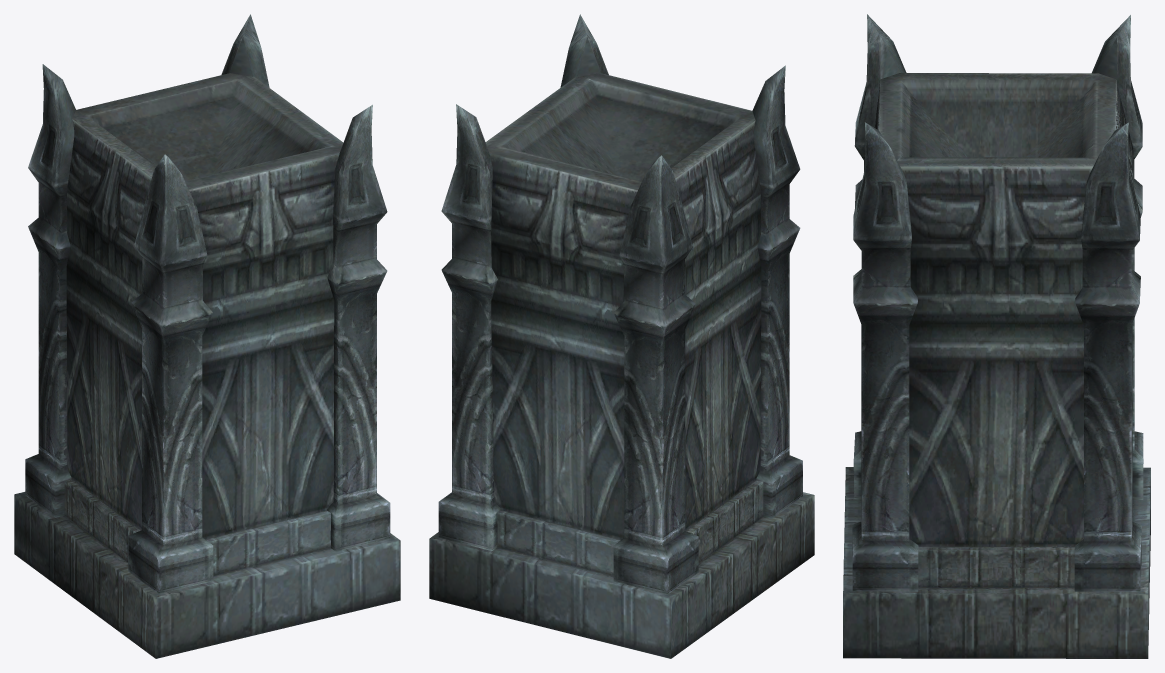
The model's file is demon_brazier_fire.glb.
The picture shows the model from 3 angles, left to right: view 1: azimuth 30°, elevation 25°; view 2: azimuth 150°, elevation 25°; view 3: azimuth 270°, elevation 25°; orthographic projection. The views are drawn at different scales.
Parts seen in each view (by area): view 1: Demon_rail_deco; view 2: Demon_rail_deco; view 3: Demon_rail_deco.
Boxes of the visible parts, x1=… form: Demon_rail_deco: x1=14, y1=14, x2=400, y2=658; Demon_rail_deco: x1=429, y1=14, x2=814, y2=658; Demon_rail_deco: x1=843, y1=14, x2=1150, y2=658.
Bounding box in the file's own units: 2.65 × 5.11 × 2.7.
Materials: 1 (1 with a texture image).
